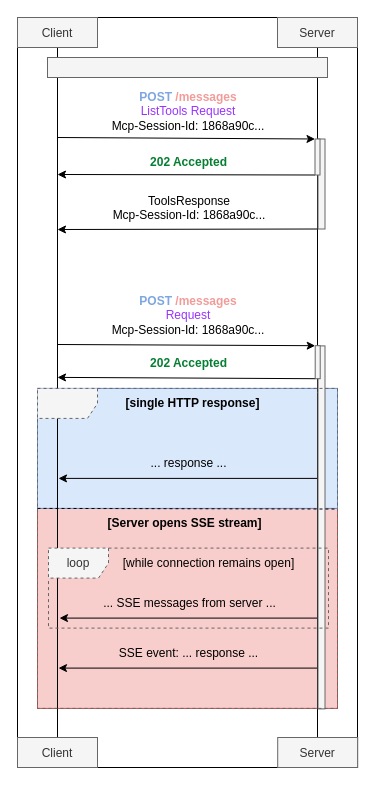
The diagram is 376 pixels wide and 785 high, and some of its shapes have lost their labels. Each missing label, with the box of its shape:
alt: (36, 387, 338, 708)
Client Requests: (46, 56, 328, 78)
